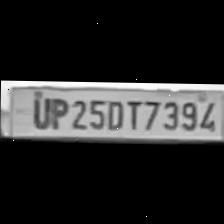2: (66, 96, 88, 130)
3: (158, 96, 178, 130)
4: (198, 96, 216, 129)
5: (86, 94, 104, 128)
7: (138, 96, 160, 130)
9: (176, 96, 198, 129)
D: (103, 96, 125, 128)
P: (46, 94, 68, 128)
T: (124, 96, 142, 130)
U: (27, 92, 49, 127)
